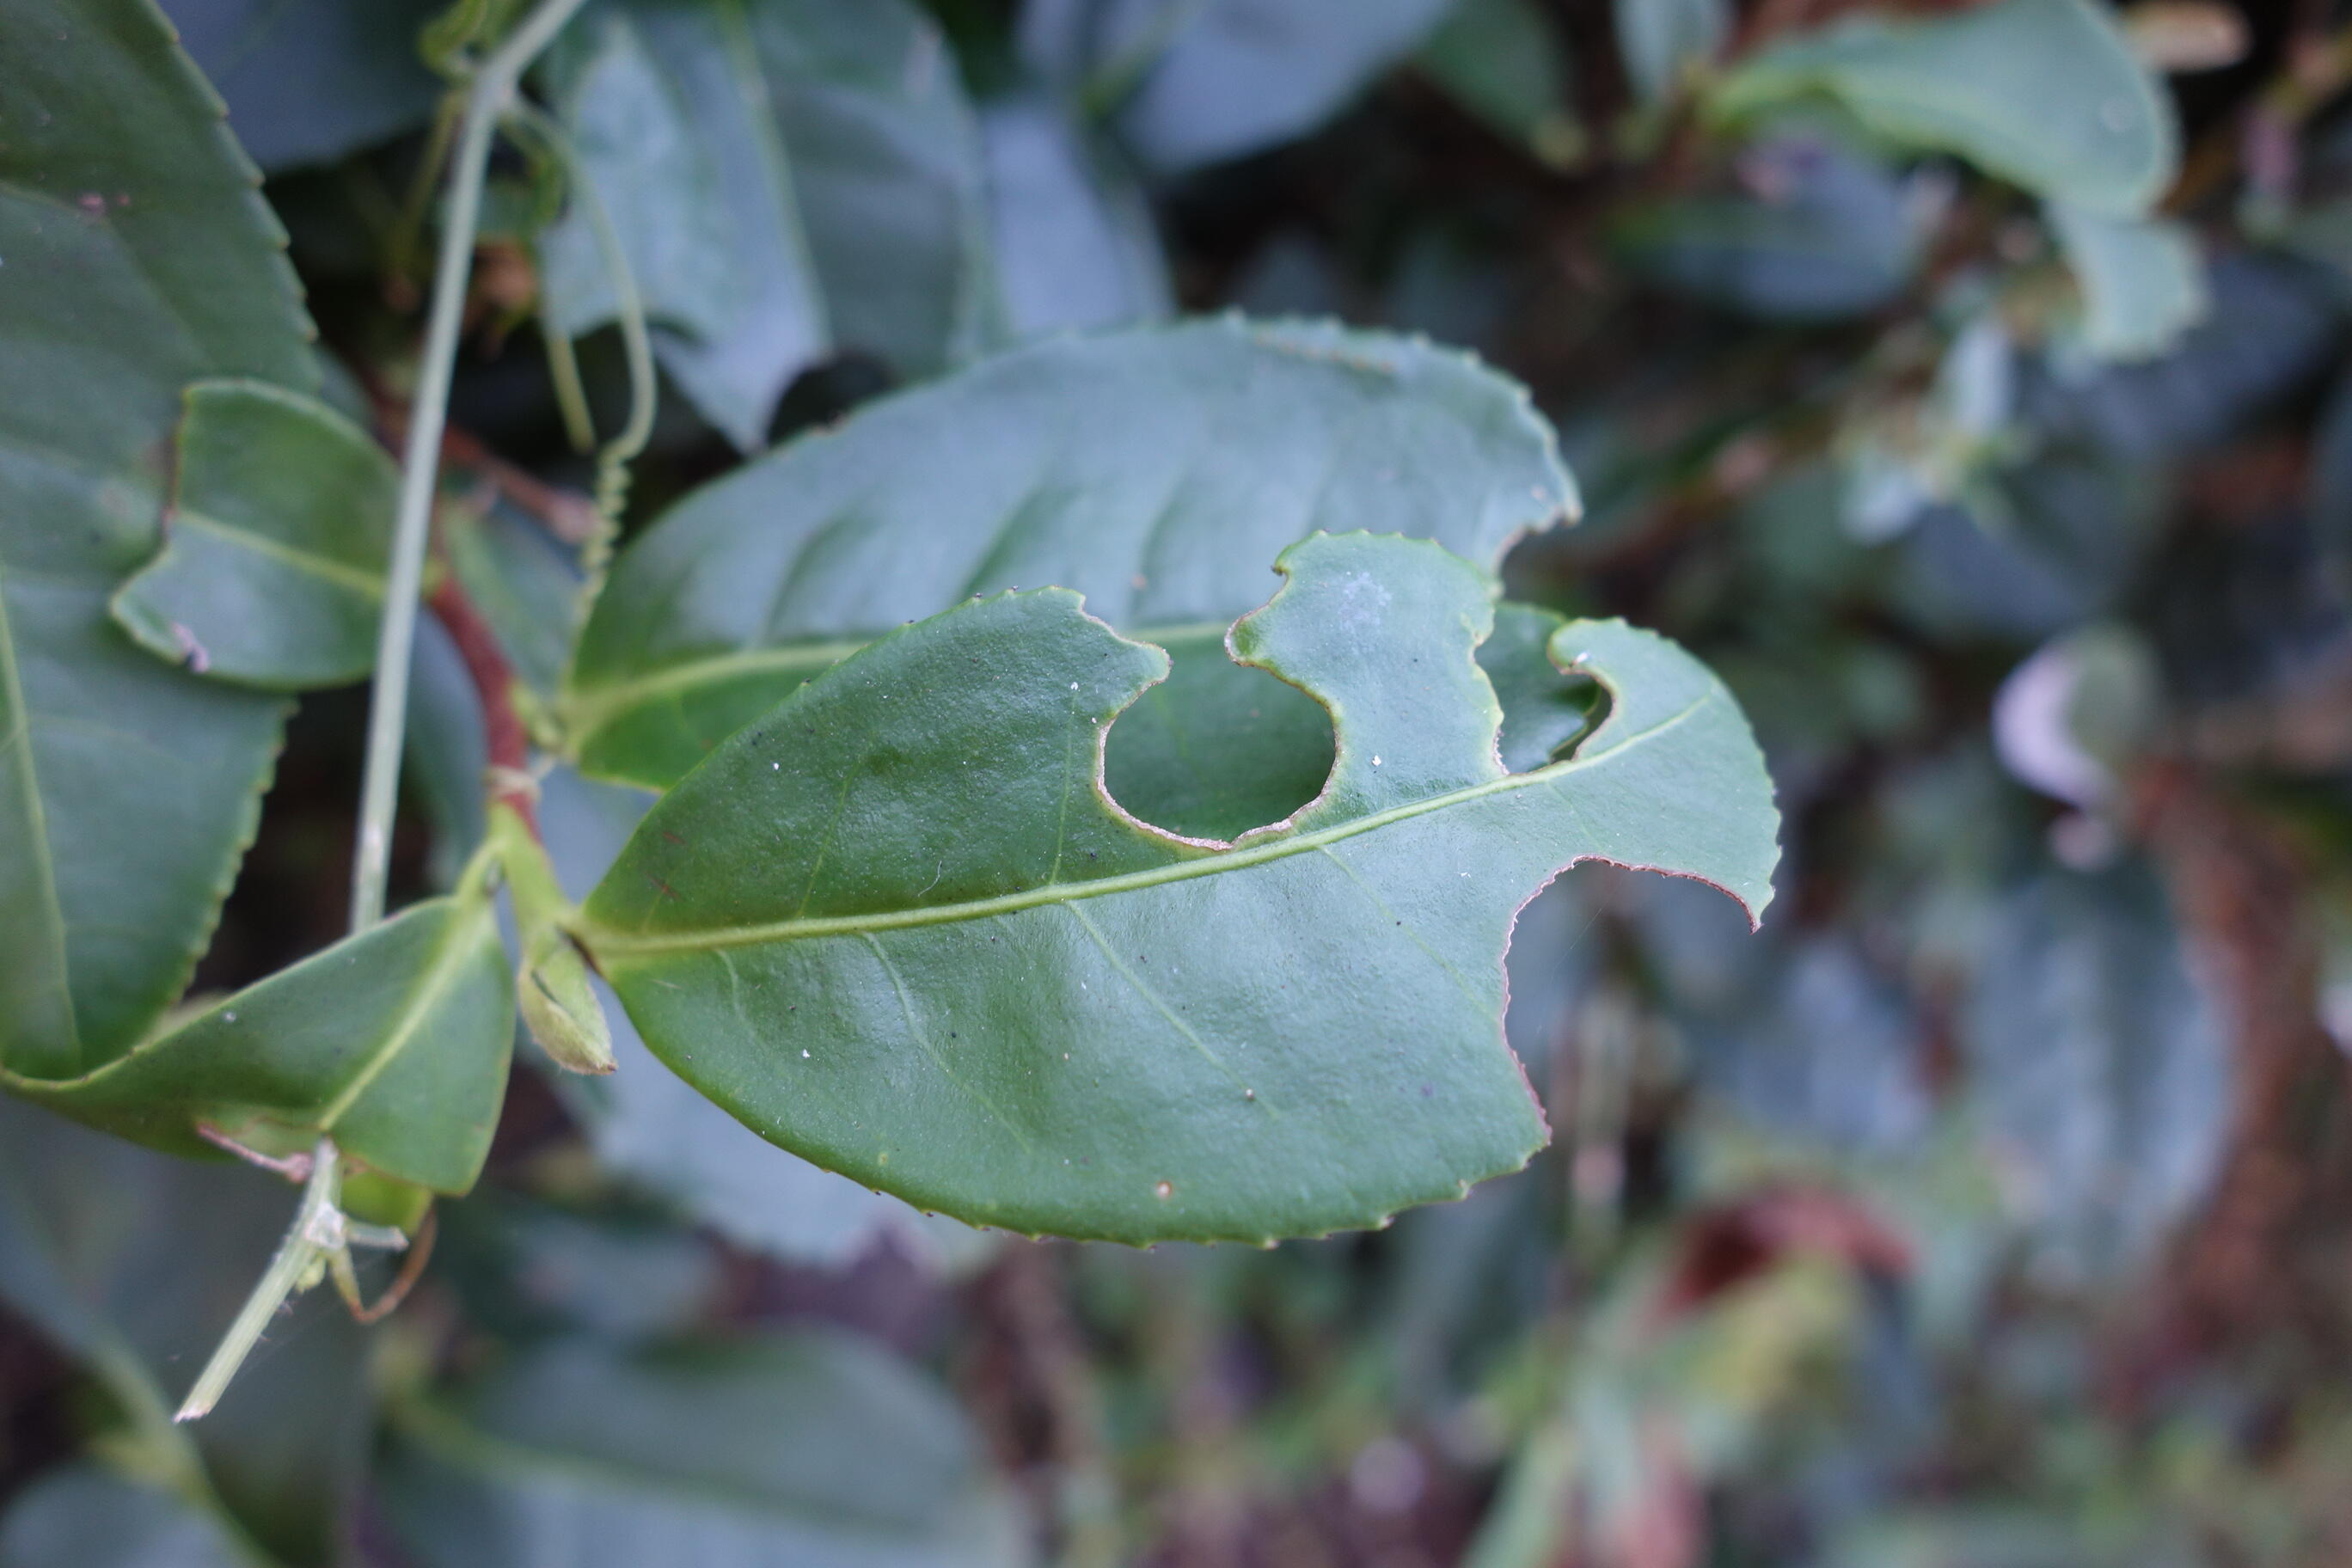chihuo_high: (549, 523, 1790, 1253), (101, 381, 394, 689)
